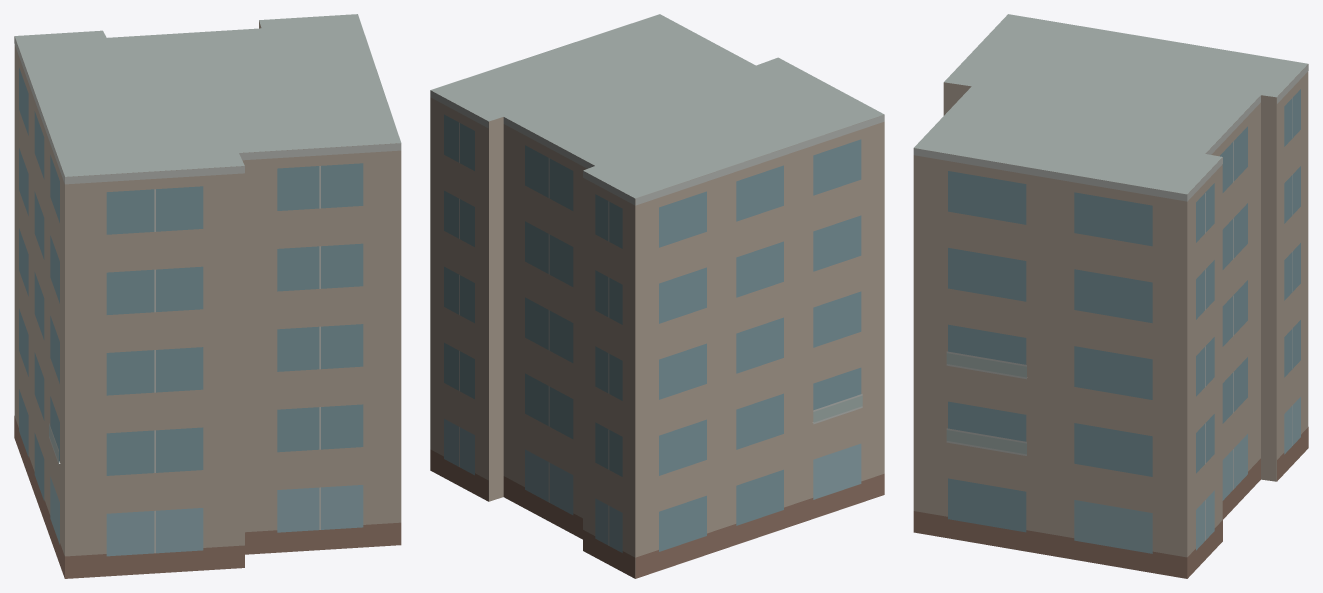
The model's file is survey-upis-32721025.glb.
3 views of the same model, side by side, from view 1: azimuth 30°, elevation 25°; view 2: azimuth 150°, elevation 25°; view 3: azimuth 270°, elevation 25° (orthographic). The views are drawn at different scales.
Visible parts, largest first — view 1: survey-upis-32721025.tmp; view 2: survey-upis-32721025.tmp; view 3: survey-upis-32721025.tmp.
Part boxes in pixels (x1,y1,x2,y2): survey-upis-32721025.tmp: (14,14,401,578); survey-upis-32721025.tmp: (430,14,884,578); survey-upis-32721025.tmp: (913,14,1308,578).
Bounding box in the file's own units: 13.2 × 13.1 × 12.2.
